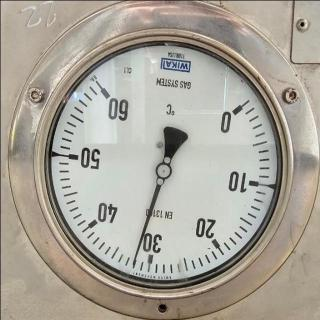gauge: (1, 3, 319, 320), (214, 91, 254, 137), (90, 81, 122, 111), (154, 161, 172, 179), (128, 255, 140, 269)
